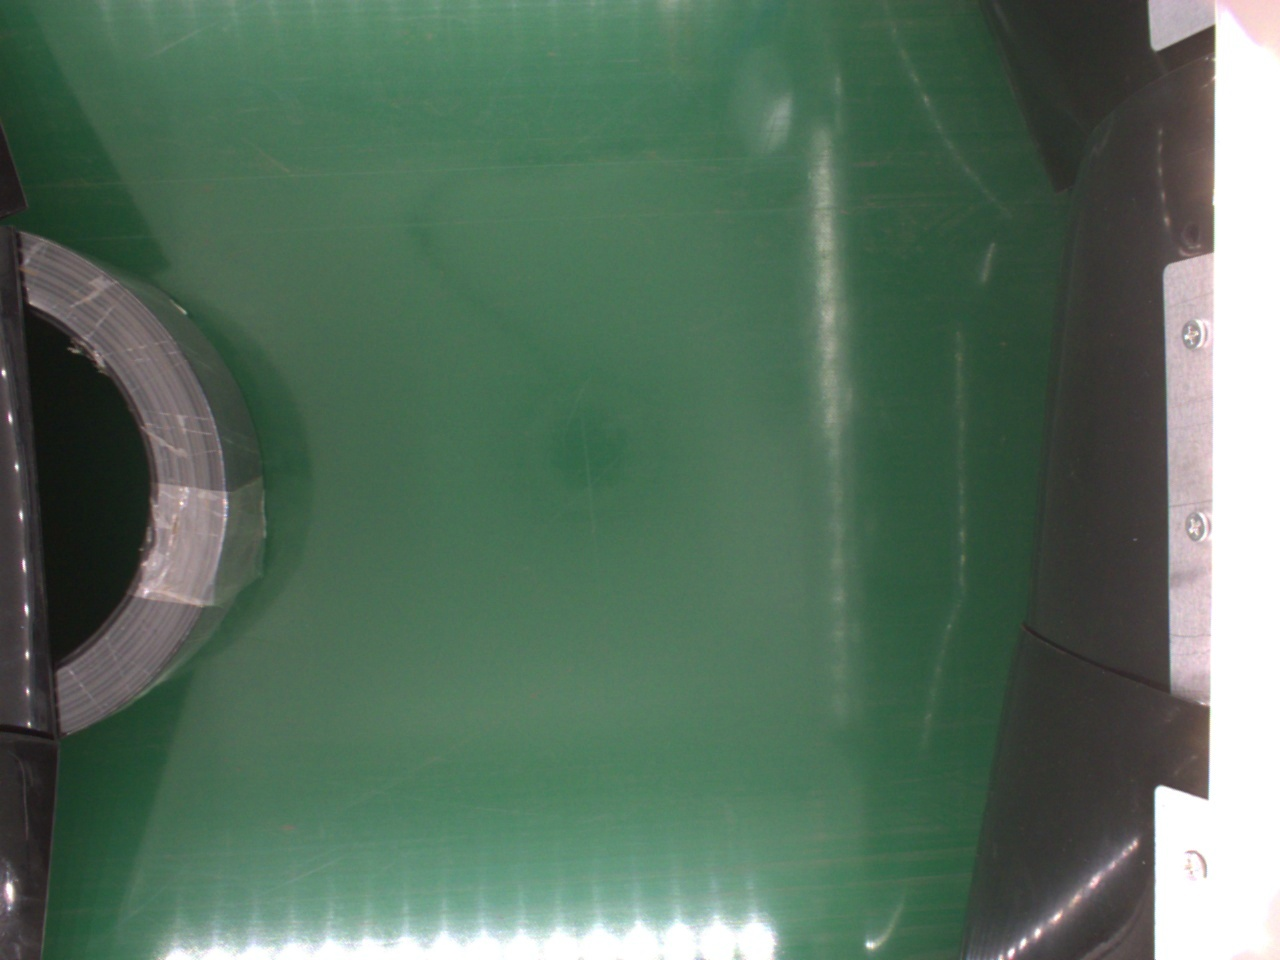black: (17, 230, 264, 740)
